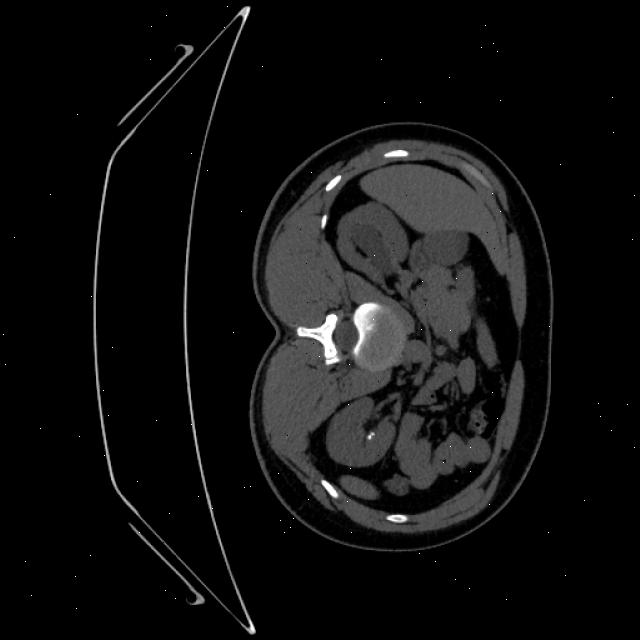kidneystone: (365, 432, 374, 440)
